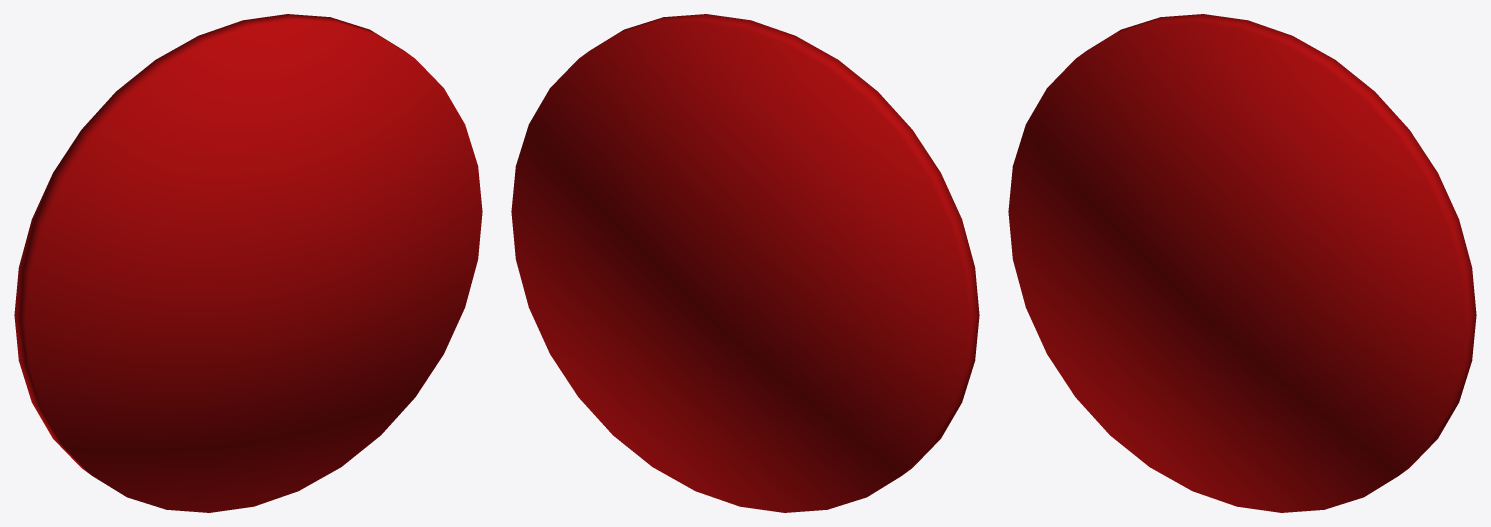
File: rear_left_estop_Center.obj
3 views of the same model, side by side, from view 1: azimuth 30°, elevation 25°; view 2: azimuth 150°, elevation 25°; view 3: azimuth 330°, elevation 25° (orthographic).
Size of the model in its own units: 0.024 by 0.024 by 0.001.
